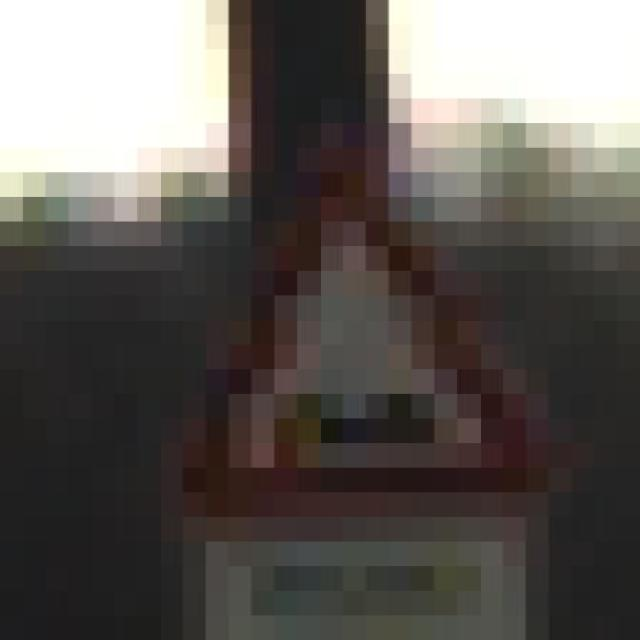Uneven Road: (137, 123, 572, 542)
